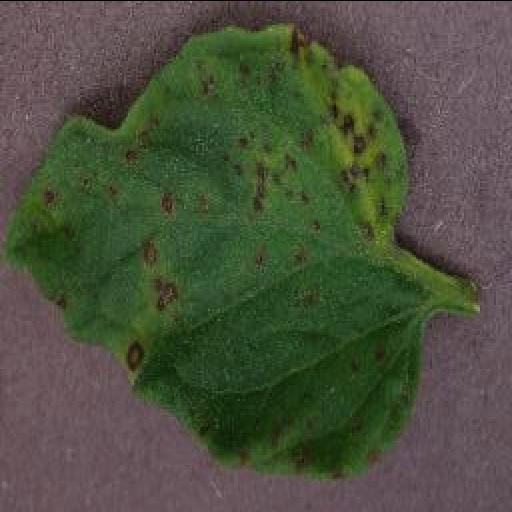disease_tomato: (2, 20, 426, 480)
